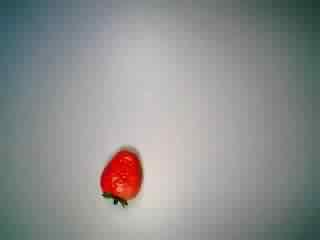strawberry: (90, 140, 156, 206)
